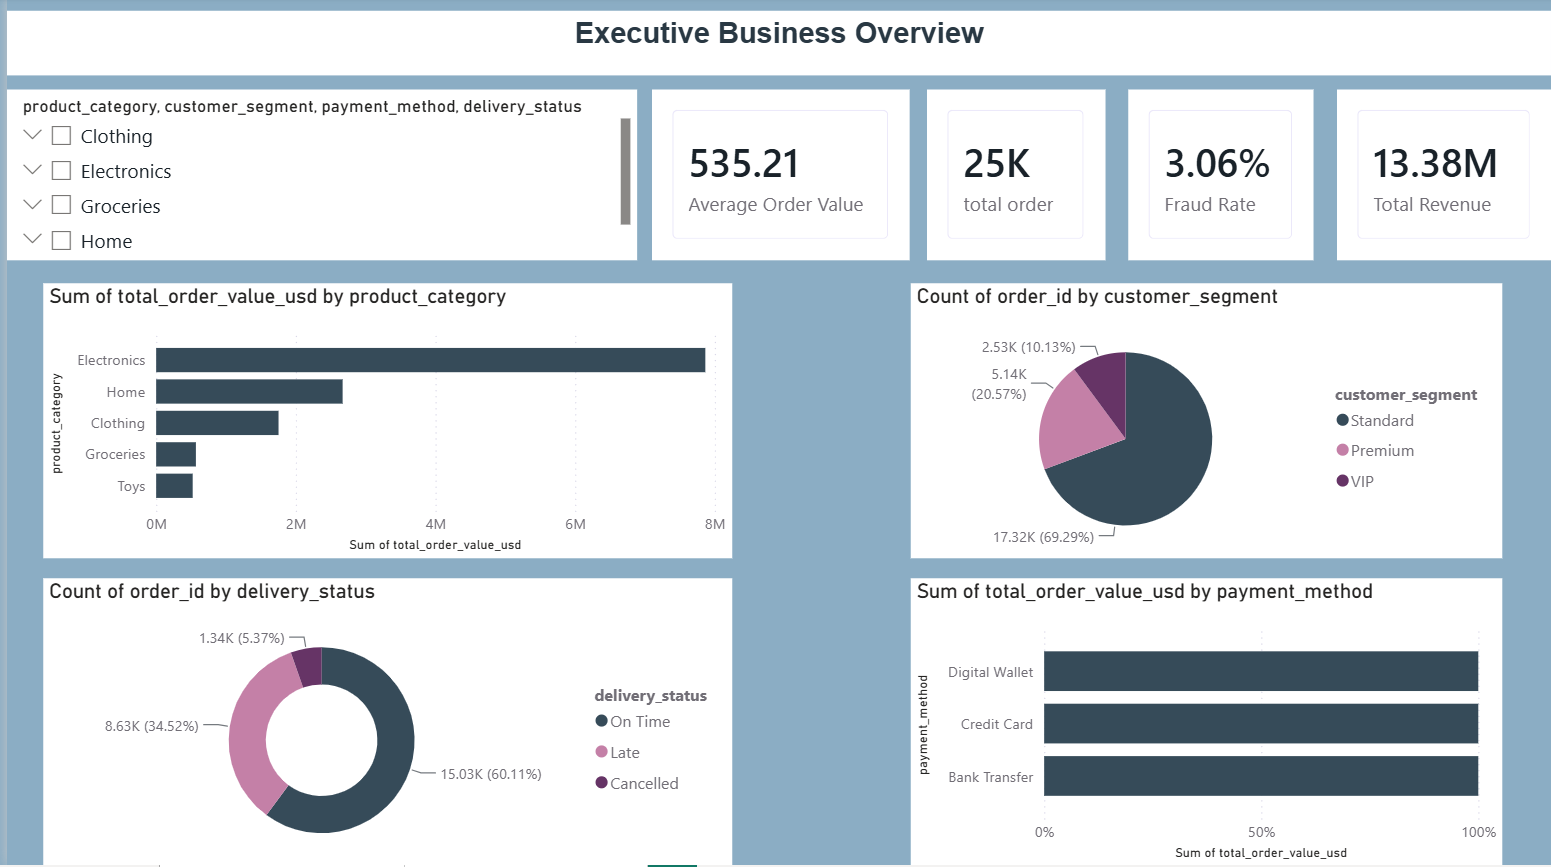

The page's visual inventory and layout, read from the dashboard file:
{"tool":"powerbi","page":{"name":"Executive Business Overview","canvas":[1280,720],"ordinal":0},"visuals":[{"type":"cardVisual","fields":{"Data":["workspace_clean_engagement.Toatal Revenue"]},"box":[1102.3,76.7,177.9,141.9],"z":0},{"type":"cardVisual","fields":{"Data":["workspace_clean_engagement.total order"]},"box":[762.8,76.7,147.7,141.9],"z":1},{"type":"cardVisual","fields":{"Data":["workspace_clean_engagement.Average Order Value"]},"box":[534.9,76.7,214,141.9],"z":2},{"type":"pieChart","fields":{"Y":["CountNonNull(workspace_clean_engagement.order_id)"],"Category":["workspace_clean_engagement.customer_segment"]},"box":[748.8,237.2,490.7,227.9],"z":5},{"type":"donutChart","fields":{"Category":["workspace_clean_engagement.delivery_status"],"Y":["CountNonNull(workspace_clean_engagement.order_id)"]},"box":[30.2,481.4,570.9,238.4],"z":6},{"type":"hundredPercentStackedBarChart","fields":{"Category":["workspace_clean_engagement.payment_method"],"Y":["Sum(workspace_clean_engagement.total_order_value_usd)"]},"box":[748.8,481.4,490.7,238.4],"z":7},{"type":"barChart","fields":{"Y":["Sum(workspace_clean_engagement.total_order_value_usd)"],"Category":["workspace_clean_engagement.product_category"]},"box":[30.2,237.2,570.9,227.9],"z":8},{"type":"cardVisual","fields":{"Data":["workspace_clean_engagement.Fraud Rate"]},"box":[929.1,76.7,153.5,141.9],"z":9},{"type":"slicer","fields":{"Values":["workspace_clean_engagement.product_category","workspace_clean_engagement.customer_segment","workspace_clean_engagement.payment_method","workspace_clean_engagement.delivery_status"]},"box":[0,76.7,522.1,141.9],"z":10},{"type":"textbox","box":[0,11.6,1280.2,53.5],"z":11}]}

Visuals, with their boxes in screenshot pixels (x1, y1, x2, y2), scaled from the page's 1280x720 canvas onto the 1551x867 screenshot:
cardVisual - workspace_clean_engagement.Toatal Revenue: {"left": 1336, "top": 92, "right": 1550, "bottom": 263}
cardVisual - workspace_clean_engagement.total order: {"left": 924, "top": 92, "right": 1103, "bottom": 263}
cardVisual - workspace_clean_engagement.Average Order Value: {"left": 648, "top": 92, "right": 907, "bottom": 263}
pieChart - CountNonNull(workspace_clean_engagement.order_id) x workspace_clean_engagement.customer_segment: {"left": 907, "top": 286, "right": 1502, "bottom": 560}
donutChart - workspace_clean_engagement.delivery_status x CountNonNull(workspace_clean_engagement.order_id): {"left": 37, "top": 580, "right": 728, "bottom": 866}
hundredPercentStackedBarChart - workspace_clean_engagement.payment_method x Sum(workspace_clean_engagement.total_order_value_usd): {"left": 907, "top": 580, "right": 1502, "bottom": 866}
barChart - Sum(workspace_clean_engagement.total_order_value_usd) x workspace_clean_engagement.product_category: {"left": 37, "top": 286, "right": 728, "bottom": 560}
cardVisual - workspace_clean_engagement.Fraud Rate: {"left": 1126, "top": 92, "right": 1312, "bottom": 263}
slicer - workspace_clean_engagement.product_category x workspace_clean_engagement.customer_segment: {"left": 0, "top": 92, "right": 633, "bottom": 263}
textbox: {"left": 0, "top": 14, "right": 1550, "bottom": 78}
